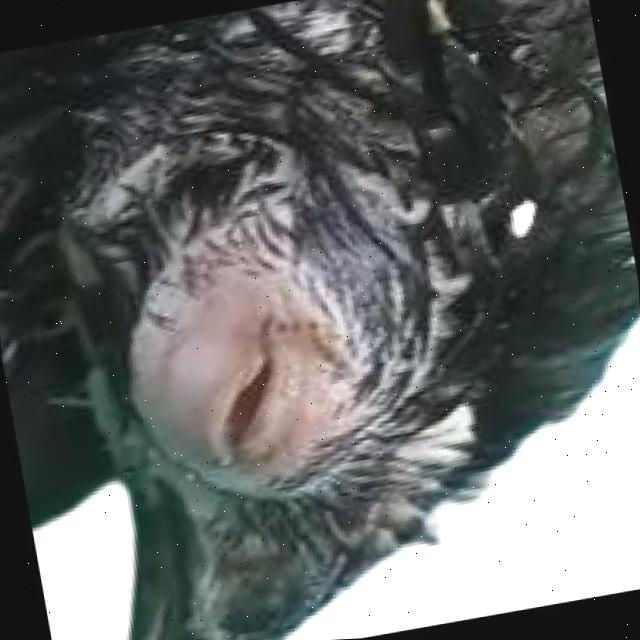Coryza: (166, 284, 346, 478)
